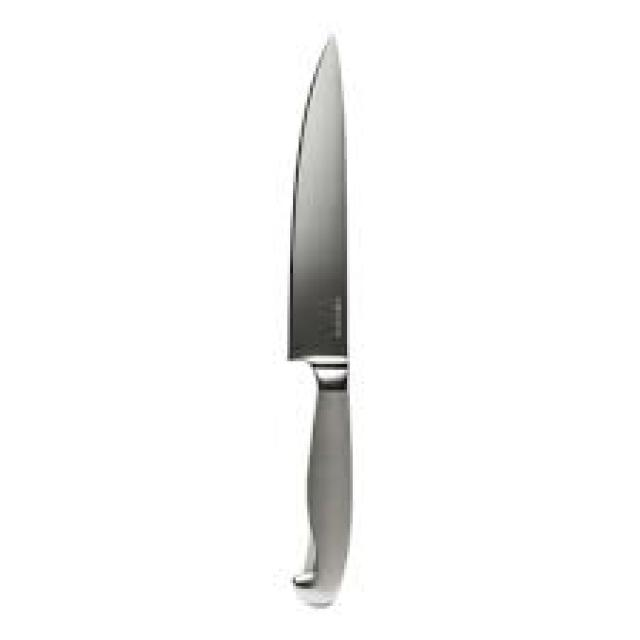Knife: (284, 31, 353, 606)
